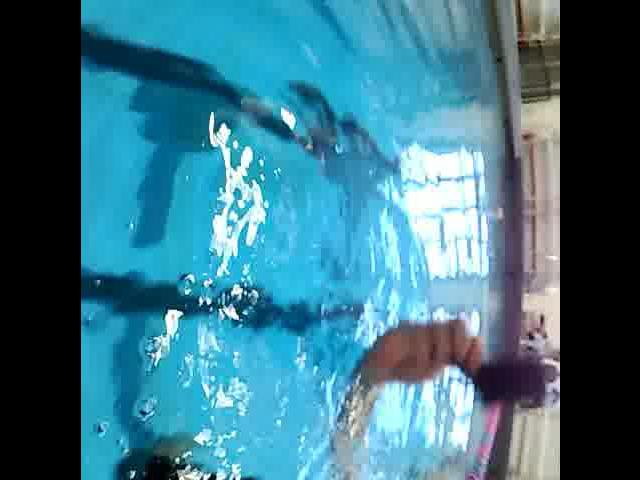CamMount: (451, 343, 548, 414)
